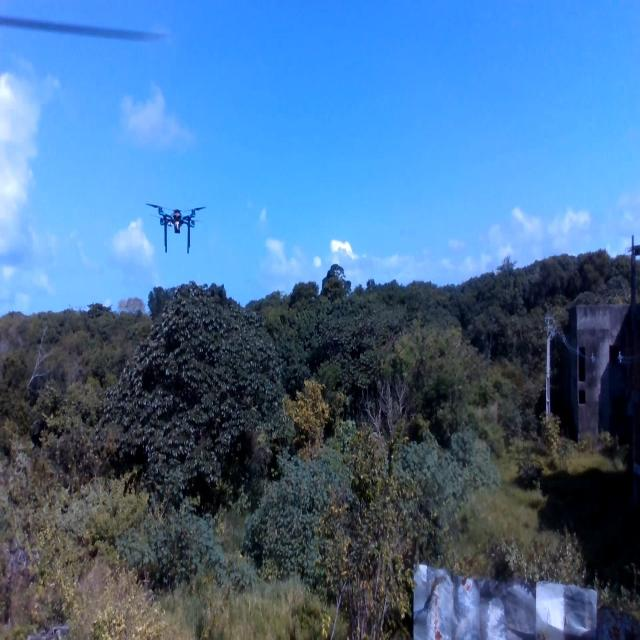-uav-: (145, 190, 208, 266)
